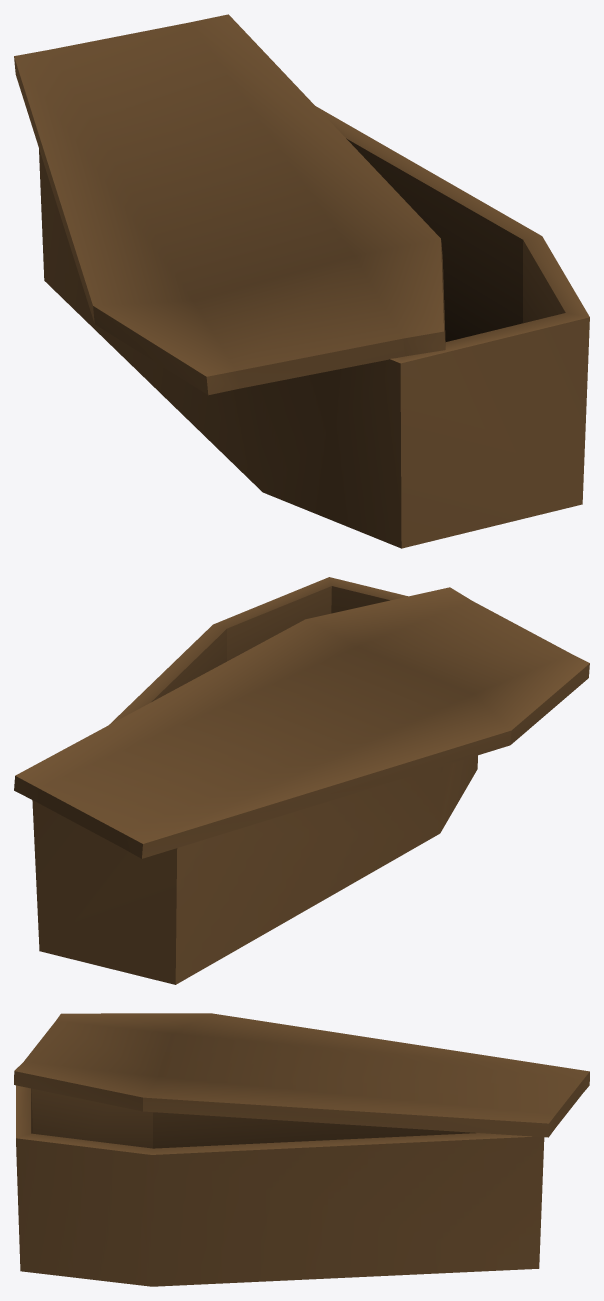
Rendered from obj_coffin_B_LOW.FBX.
3 views of the same model, one above another, from view 1: azimuth 30°, elevation 25°; view 2: azimuth 150°, elevation 25°; view 3: azimuth 270°, elevation 25° (orthographic). The views are drawn at different scales.
Visible parts, largest first — view 1: obj_coffin_B_LOW; view 2: obj_coffin_B_LOW; view 3: obj_coffin_B_LOW.
Boxes of the visible parts, x1,y1,x2,y2 form: obj_coffin_B_LOW: (14,14,589,548); obj_coffin_B_LOW: (14,577,589,984); obj_coffin_B_LOW: (14,1013,589,1286).
Size of the model in its own units: 2.01 by 1.02 by 3.45.
